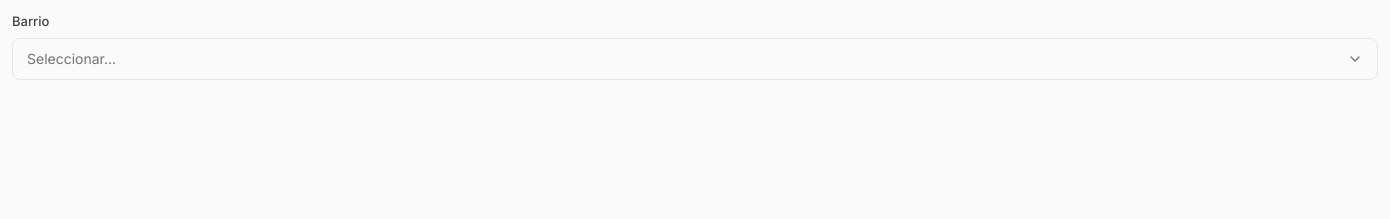
FormField › searchable-select › cierra con Escape y devuelve el foco al control
Click the button at point(72, 58), box [12,38,1378,80]
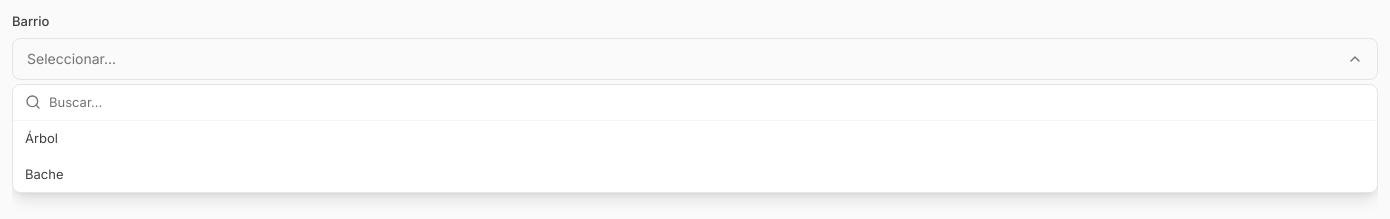
Press Escape in the field named "Buscar barrio", box [49,92,1365,112]
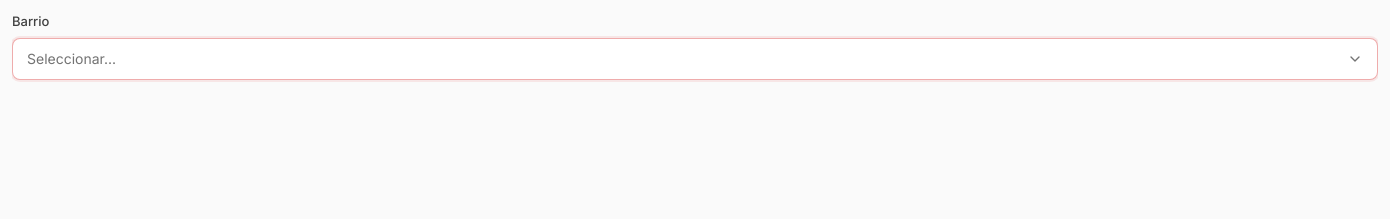
Check: the button is collapsed, box [12,38,1378,80]
